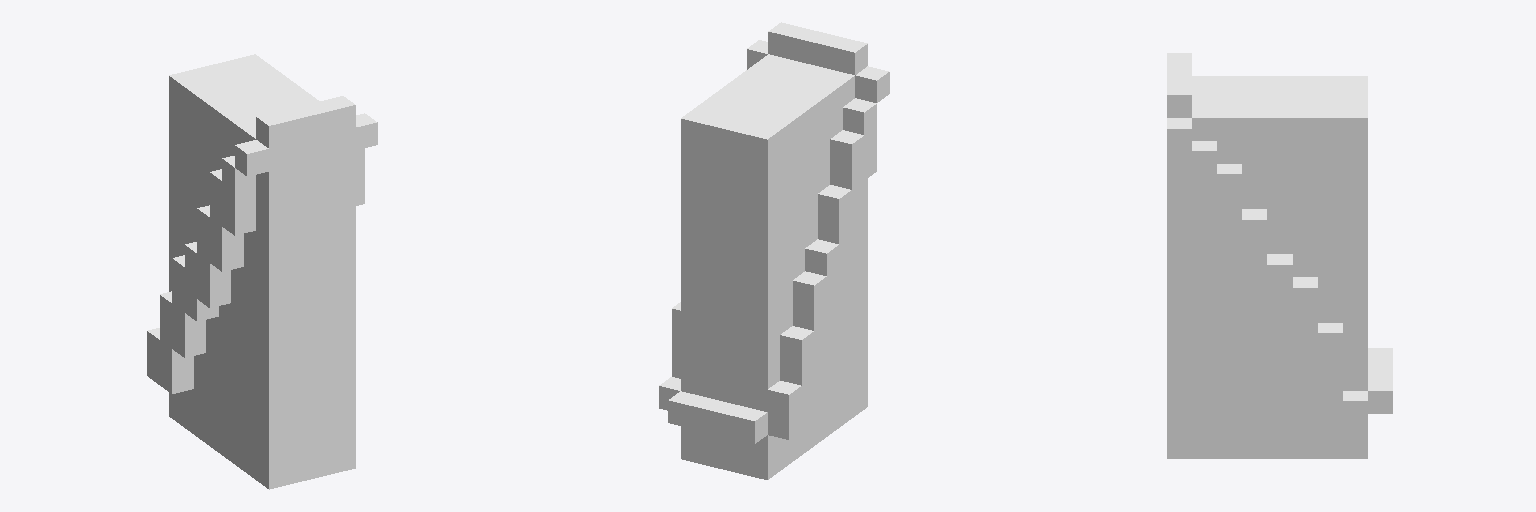
File: Hunters-10-body.obj
The picture shows the model from 3 angles: view 1: azimuth 30°, elevation 25°; view 2: azimuth 150°, elevation 25°; view 3: azimuth 270°, elevation 25°; orthographic projection.
Parts seen in each view (by area): view 1: body; view 2: body; view 3: body.
Part boxes in pixels (left/top/right/bottom): body: left=147, top=54, right=377, bottom=489; body: left=659, top=22, right=889, bottom=479; body: left=1167, top=53, right=1392, bottom=458.
Size of the model in its own units: 0.6 by 1.6 by 0.9.